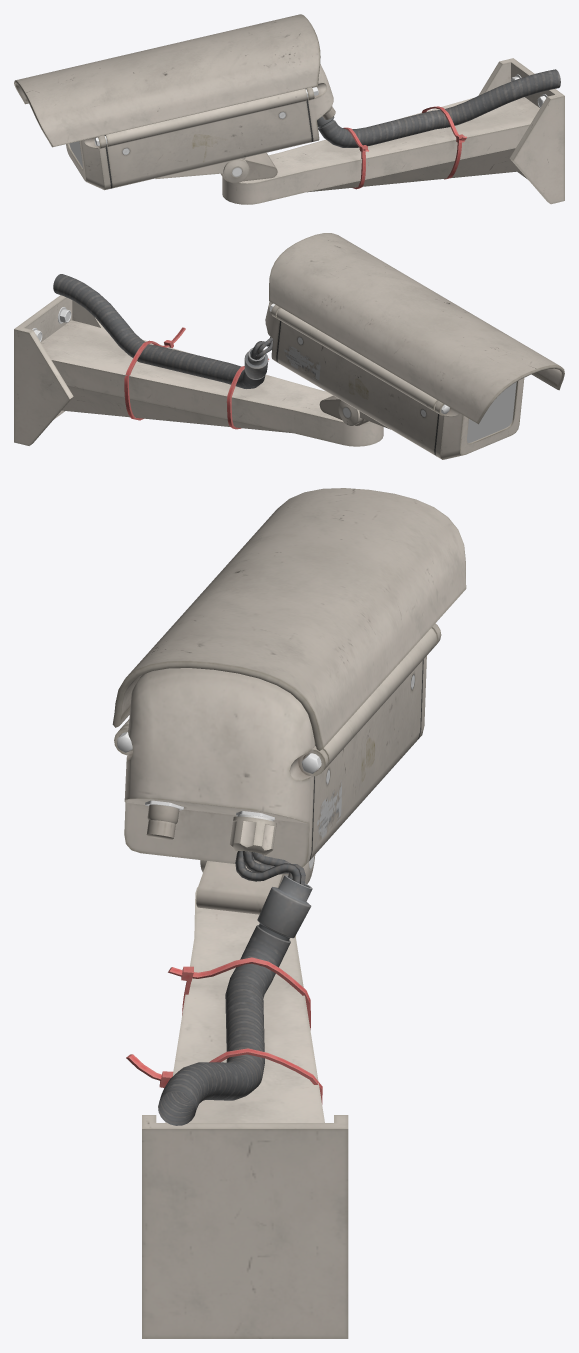
Rendered from SM_Security_Camera_01a.fbx.
3 renders of one model, top to bottom at view 1: azimuth 30°, elevation 25°; view 2: azimuth 150°, elevation 25°; view 3: azimuth 270°, elevation 25°, orthographic. The views are drawn at different scales.
Visible parts, largest first — view 1: SM_Security_Camera_01a; view 2: SM_Security_Camera_01a; view 3: SM_Security_Camera_01a.
Boxes of the visible parts, bbox=[...] form: SM_Security_Camera_01a: bbox=[14, 14, 564, 204]; SM_Security_Camera_01a: bbox=[14, 233, 564, 459]; SM_Security_Camera_01a: bbox=[112, 488, 466, 1338].
Bounding box in the file's own units: 78.25 × 24.22 × 33.61.
2 materials, 1 textured.
